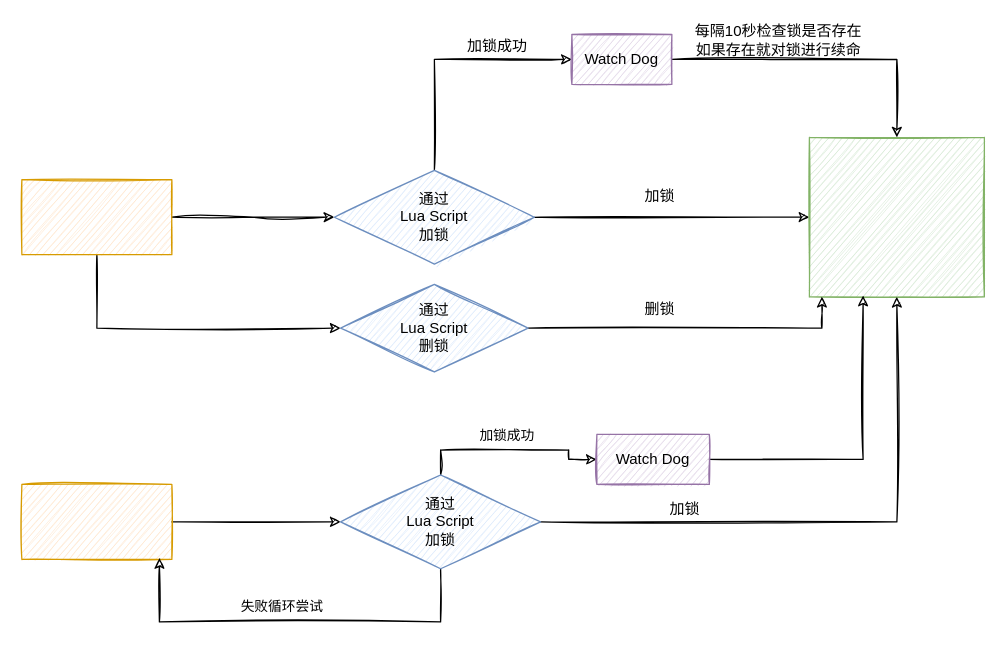
The diagram is 1006 pixels wide and 654 high, and some of its shapes have lost their labels. The shapes that lost their labels are listed below. From the top down, each one's centre as x and y in pixels, then its label:
At point 96,216: "Redisson Client-A".
At point 896,216: "Redis Server".
At point 96,521: "Redisson Client-B".
